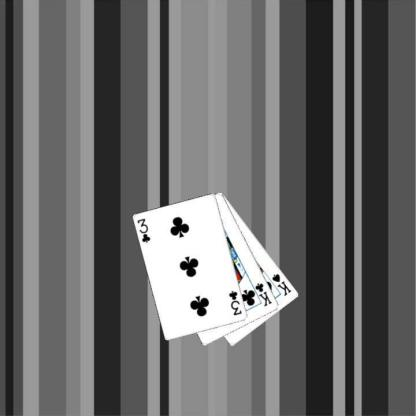3C: (226, 288, 244, 317), (135, 216, 152, 244)
KC: (249, 281, 274, 308)
KS: (269, 271, 293, 297)
